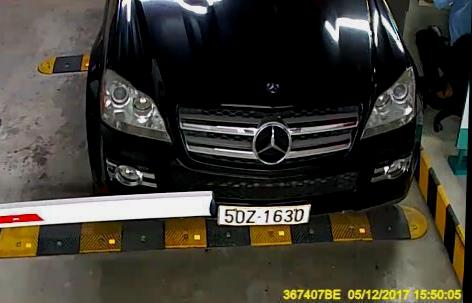License_Plate: (213, 199, 315, 231)
